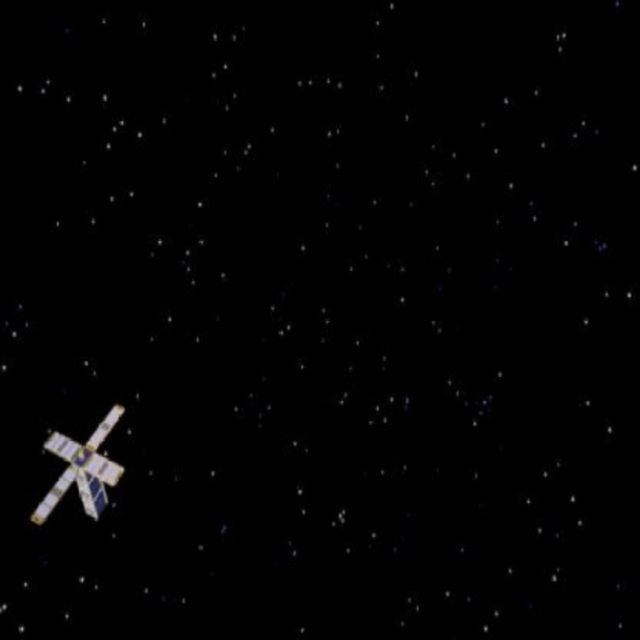satellite: (28, 394, 132, 537)
